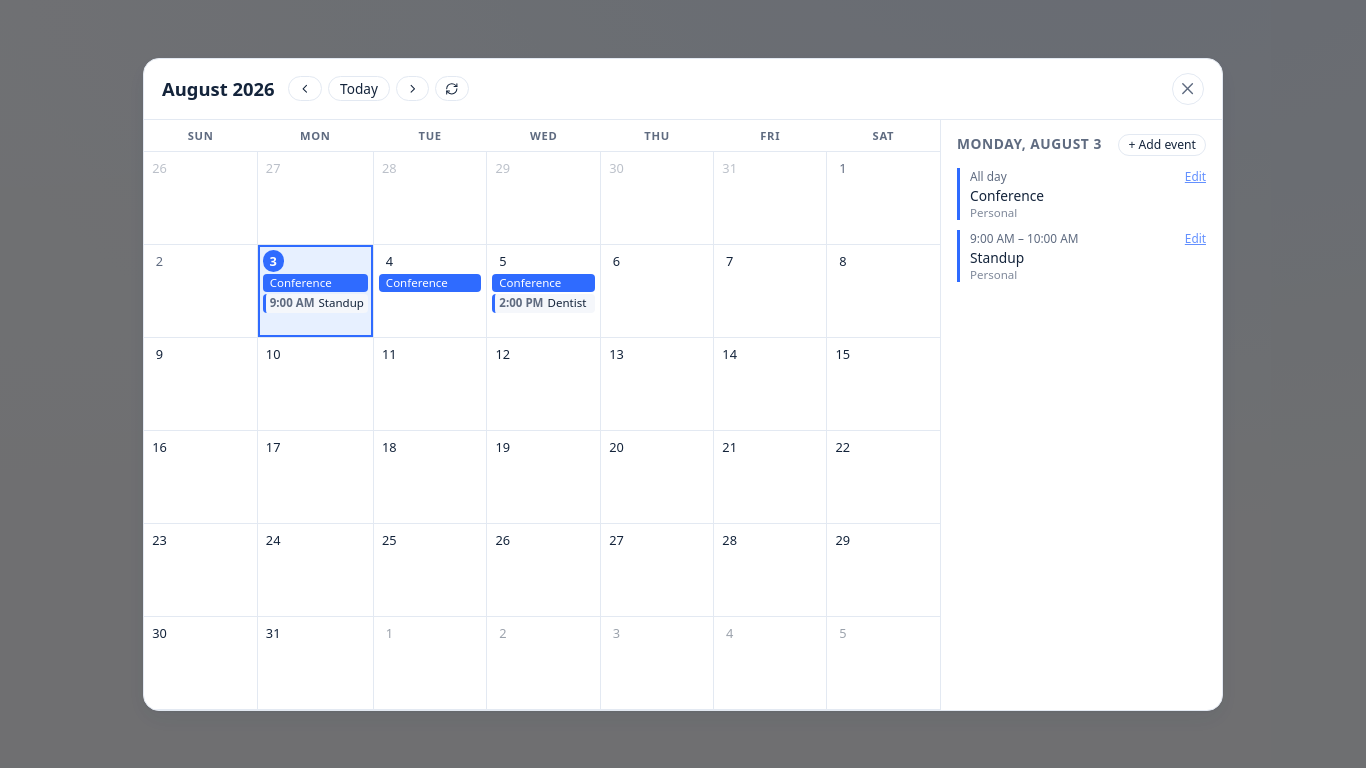
Scenario: CalendarModal paging months › steps forward to the next month
The image size is (1366, 768).
Click the button named "Next month" at point(413, 88), box top-left (396, 76), bottom-right (429, 101)
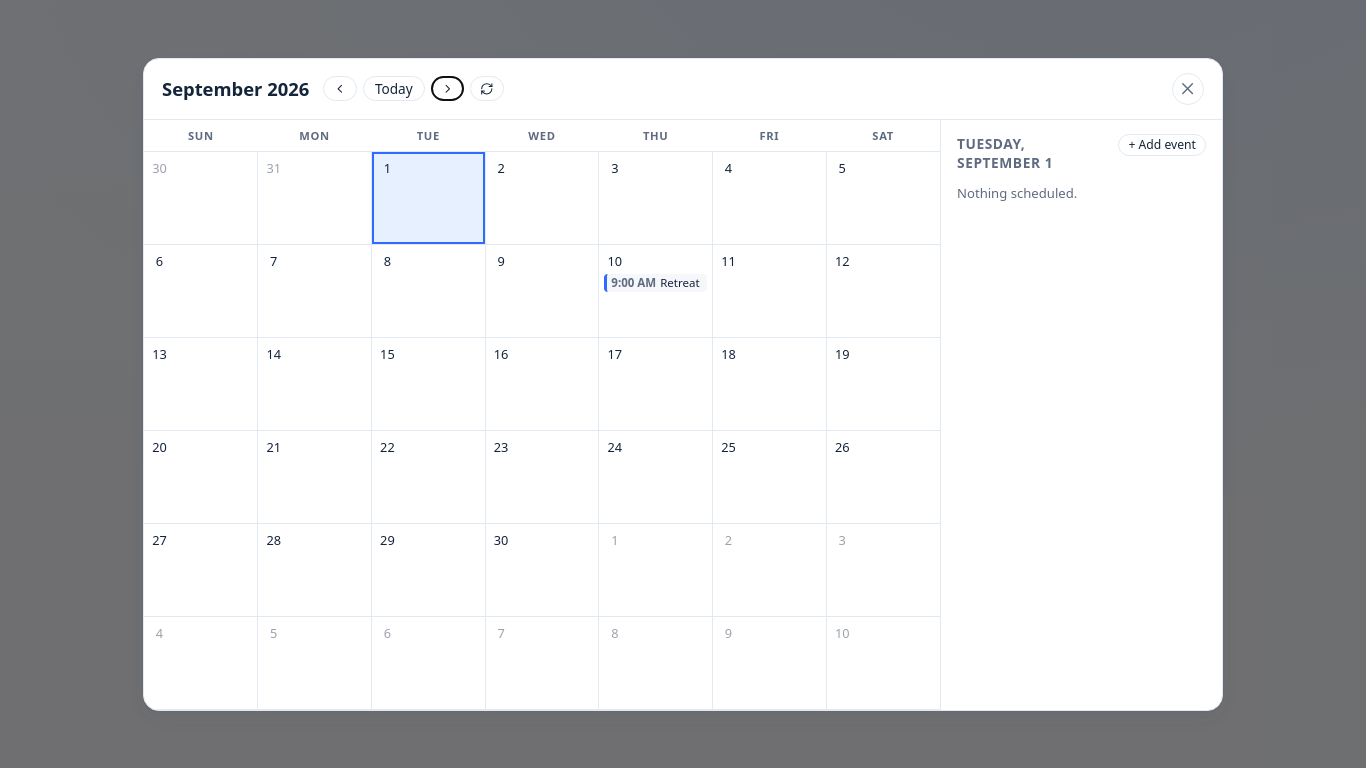
Expected: the heading "September 2026" is shown, top-left (162, 76), bottom-right (309, 101)
Expected: the button with aria-label "September 10, 2026, 1 event" is shown, top-left (599, 244), bottom-right (712, 336)
